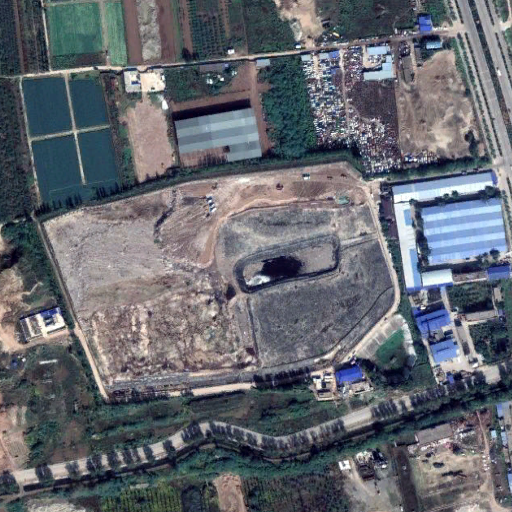lf: (38, 160, 401, 406)
